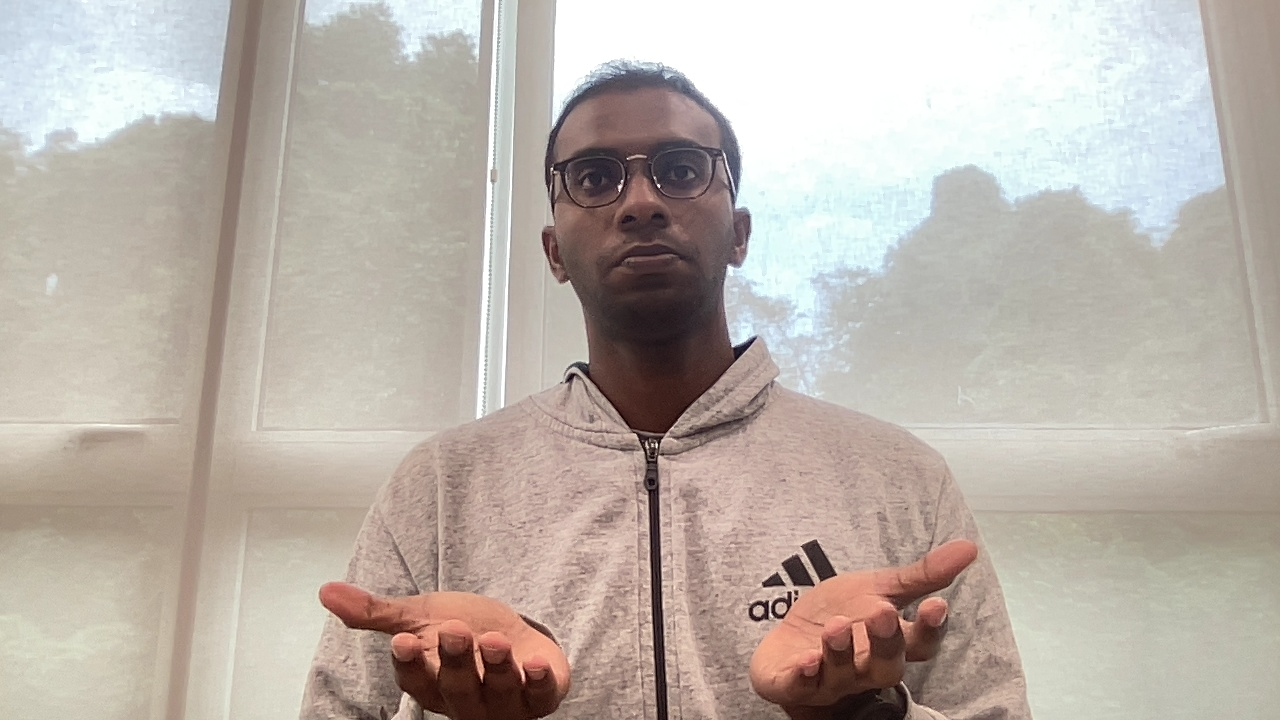give: (315, 534, 984, 720)
